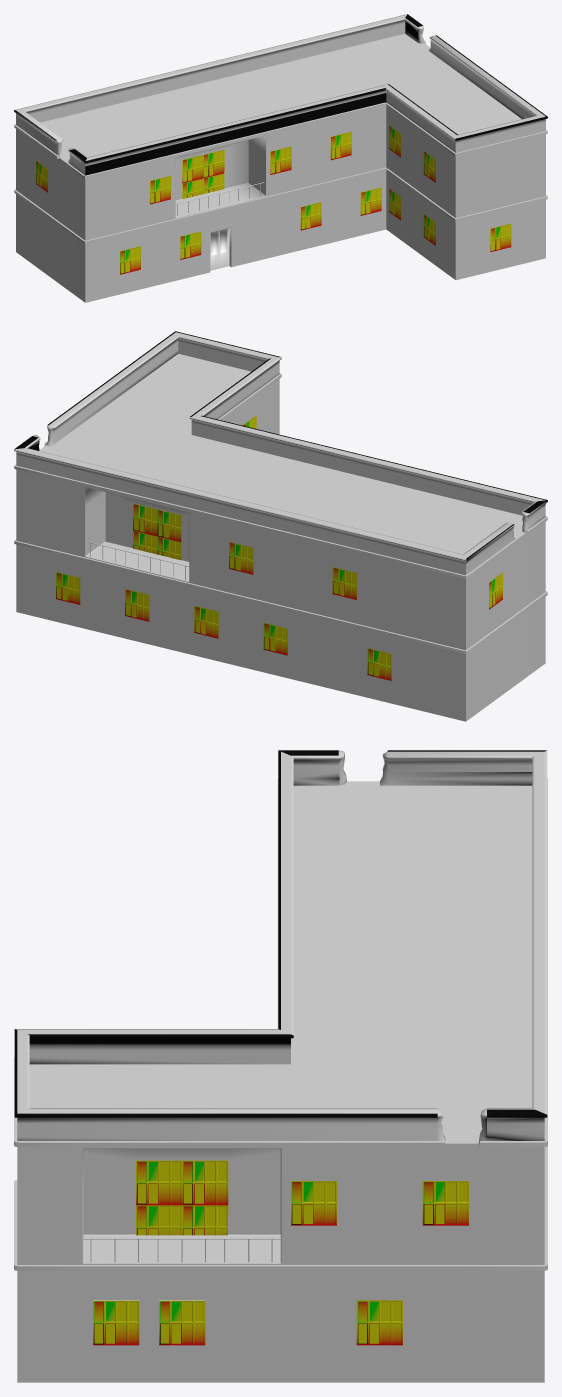
Rendered from l_building_final.FBX.
3 views of the same model, one above another, from view 1: azimuth 30°, elevation 25°; view 2: azimuth 150°, elevation 25°; view 3: azimuth 270°, elevation 25° (orthographic). The views are drawn at different scales.
Visible parts, largest first — view 1: L_front, Object170, L_Left, Wall_back, wall_front, Object182, D_front, Wall_left, Wall_right, Object190, D_Left, door_lp; view 2: L_back, Object170, L_Left, wall_front, Wall_back, Object197, D_back, Wall_right, Wall_left, D_Left, Object190; view 3: L_right, Object170, finestra_v3_lp007, Wall_left, Wall_right, D_right, wall_front, Wall_back, D_front, D_back, railing_01_LP002.
Part boxes in pixels (box(x1,y1,x2,y2)): L_front: box(85, 105, 545, 302); Object170: box(41, 33, 521, 163); L_Left: box(16, 106, 455, 302); Wall_back: box(14, 14, 407, 122); wall_front: box(85, 84, 547, 175); Object182: box(120, 131, 511, 274); D_front: box(85, 102, 547, 243); Wall_left: box(14, 84, 457, 174); Wall_right: box(404, 14, 547, 119); Object190: box(36, 125, 435, 245); D_Left: box(14, 102, 455, 243); door_lp: box(210, 228, 229, 270); L_back: box(16, 469, 465, 721); Object170: box(39, 353, 525, 554); L_Left: box(223, 379, 545, 721); wall_front: box(175, 331, 547, 515); Wall_back: box(14, 448, 466, 575); Object197: box(56, 503, 391, 680); D_back: box(14, 465, 466, 653); Wall_right: box(14, 331, 178, 450); Wall_left: box(190, 357, 547, 574); D_Left: box(218, 374, 547, 653); Object190: box(243, 415, 502, 609); L_right: box(17, 1143, 544, 1382); Object170: box(29, 781, 532, 1143); finestra_v3_lp007: box(93, 1160, 468, 1345); Wall_left: box(15, 750, 546, 1064); Wall_right: box(14, 1108, 547, 1143); D_right: box(15, 1141, 546, 1270); wall_front: box(14, 750, 293, 1114); Wall_back: box(532, 750, 547, 1114); D_front: box(14, 779, 278, 1269); D_back: box(544, 779, 547, 1269); railing_01_LP002: box(83, 1238, 280, 1262).
Size of the model in its own units: 26.2 by 9.01 by 16.2.
